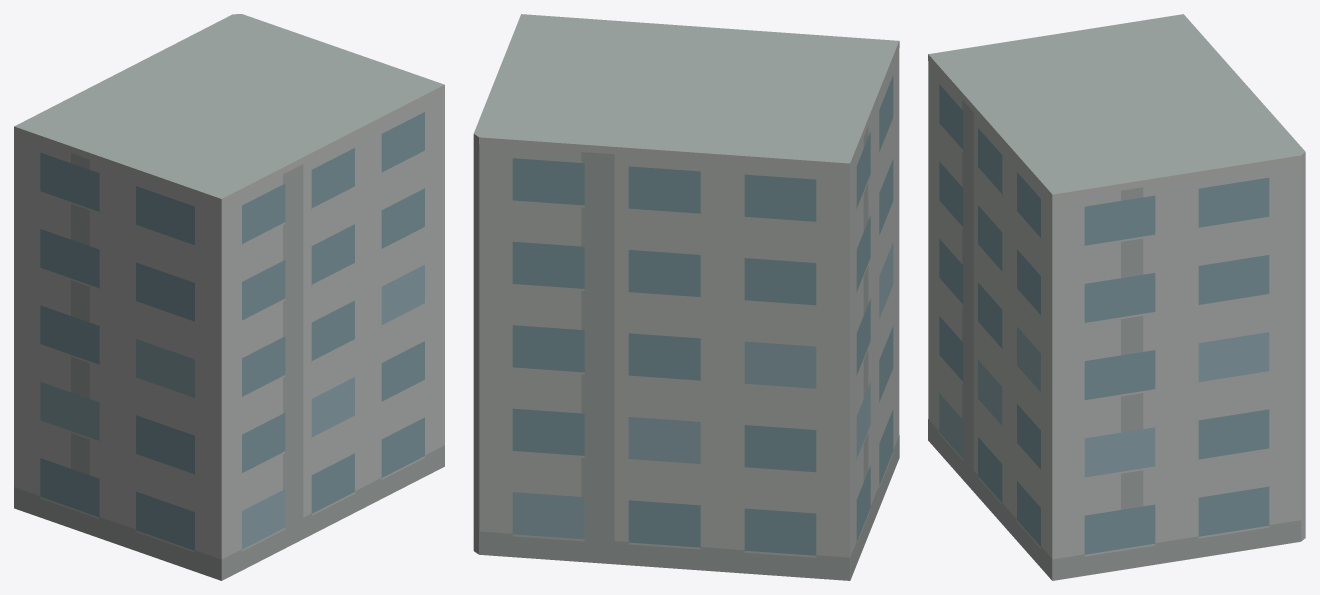
Rendered from survey-upis-32847415.glb.
3 views of the same model, side by side, from view 1: azimuth 30°, elevation 25°; view 2: azimuth 150°, elevation 25°; view 3: azimuth 270°, elevation 25° (orthographic). The views are drawn at different scales.
Parts seen in each view (by area): view 1: survey-upis-32847415.tmp; view 2: survey-upis-32847415.tmp; view 3: survey-upis-32847415.tmp.
Part boxes in pixels (<box>): survey-upis-32847415.tmp: <box>14,14,444,580</box>; survey-upis-32847415.tmp: <box>473,14,899,580</box>; survey-upis-32847415.tmp: <box>928,14,1305,580</box>.
Size of the model in its own units: 13.7 by 13.65 by 12.1.
